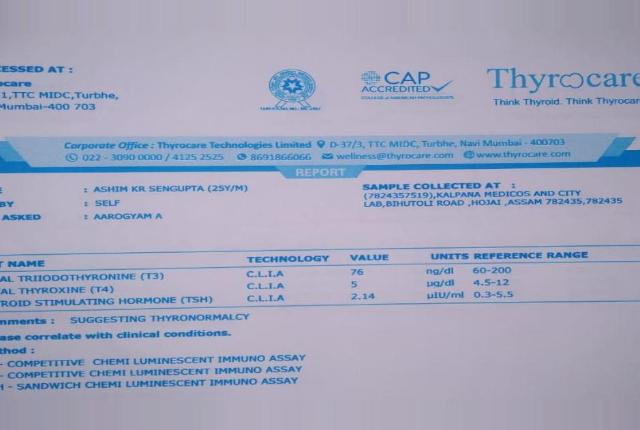Clinical_Conditions: (2, 355, 313, 390)
Name: (93, 184, 250, 195)
Ref_By: (93, 198, 129, 208)
Reference_Range: (471, 263, 518, 303)
Technology: (241, 268, 292, 307)
Test_Asked: (91, 211, 166, 224)
Test_Name: (1, 272, 220, 311)
Unit: (423, 263, 468, 304)
Value: (346, 265, 383, 306)
